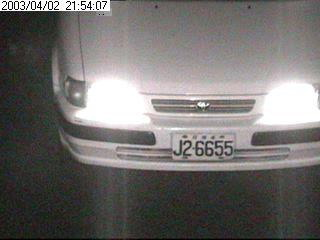plate: (170, 130, 237, 162)
